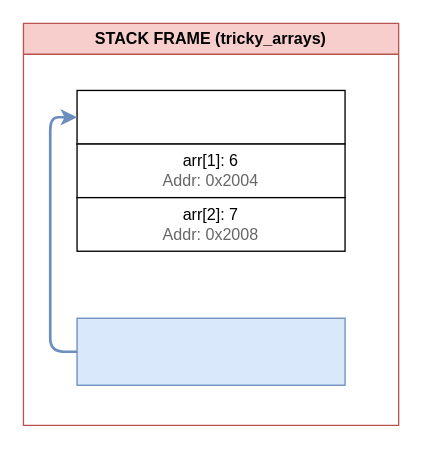
Some shapes in this 422 by 449 pixel diagram are drawn without their labels. The centre of each missing label's shape, as x and y in pixels:
"arr[0]: 5 Addr: 0x2000" goes at point 210,116.
"p: 0x2000 Addr: 0x1FFC" goes at point 210,351.
